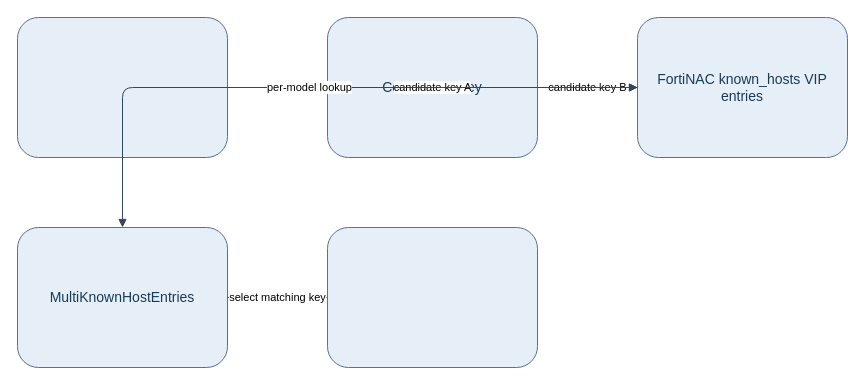
The diagram is 865 pixels wide and 385 high, and some of its shapes have lost their labels. Each missing label, with the centre of its shape:
"Controller A key" belongs at (x=122, y=87).
"VIP SSH poll" belongs at (x=432, y=297).
